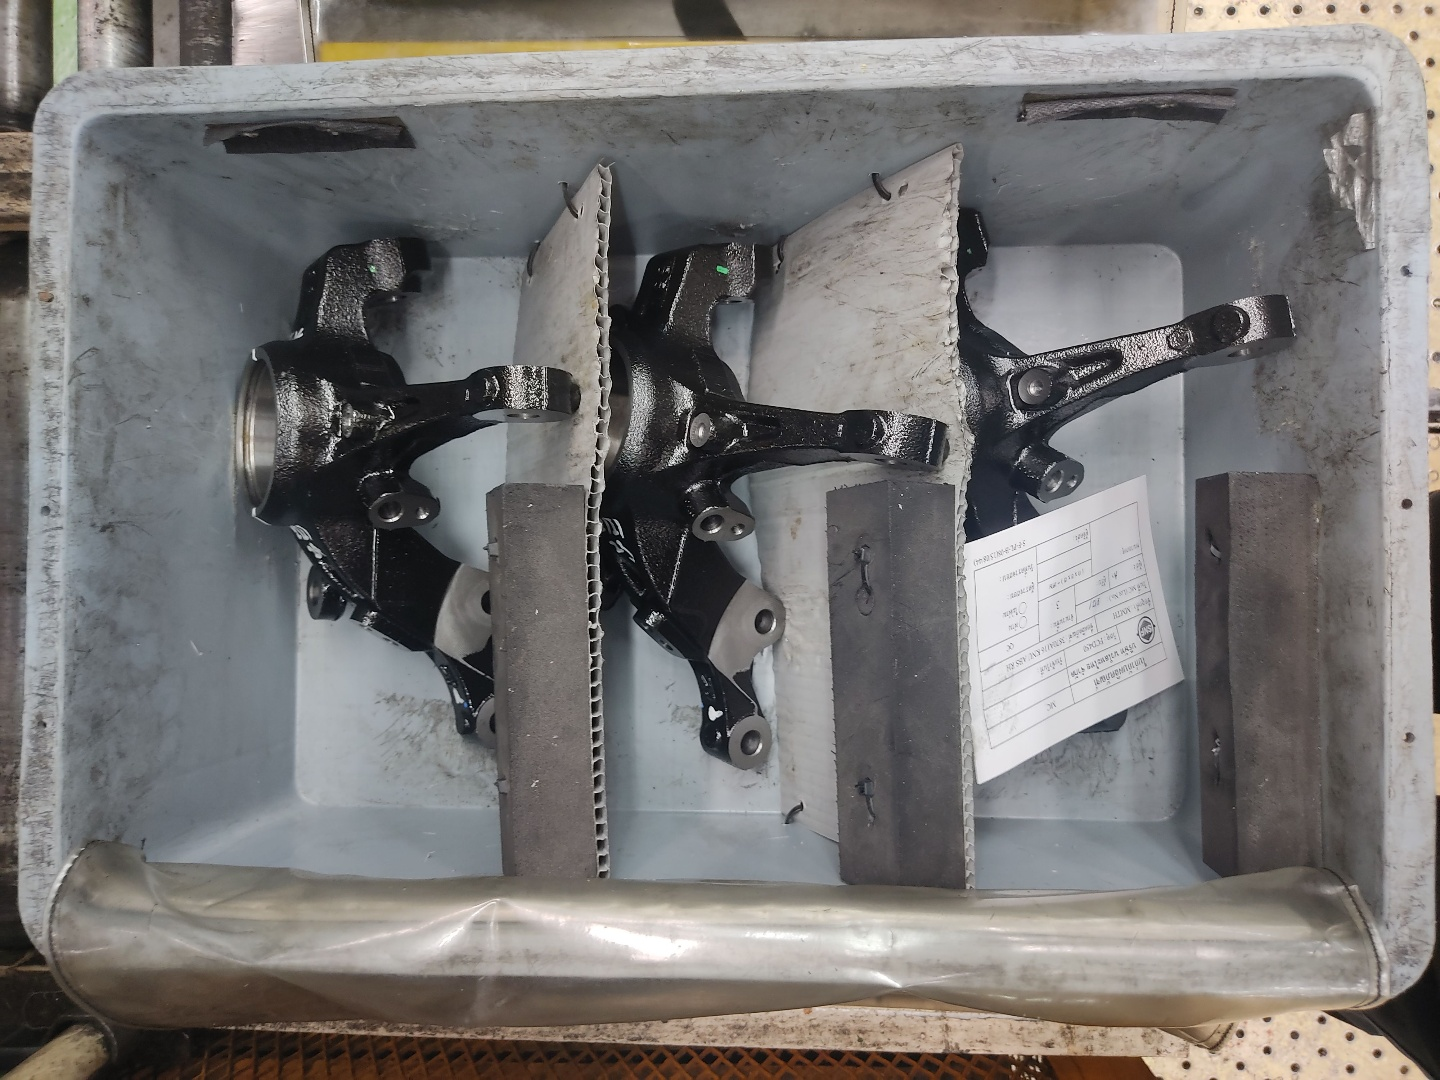abs-rh: (943, 192, 1314, 767), (594, 217, 954, 796), (225, 227, 587, 763)
